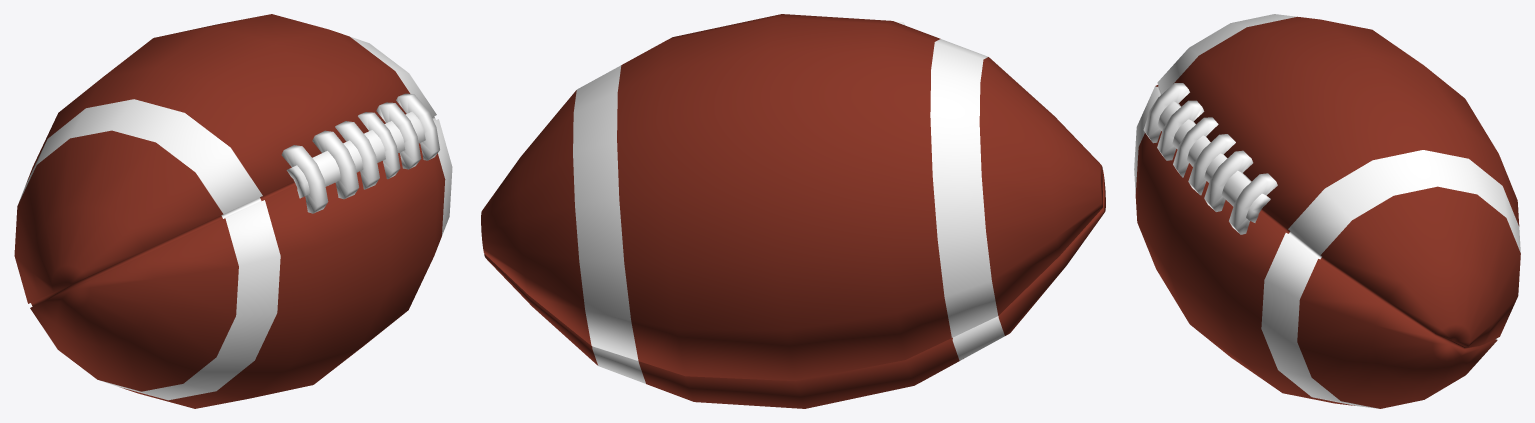
The model's file is Balon.glb.
3 renders of one model, left to right at view 1: azimuth 30°, elevation 25°; view 2: azimuth 150°, elevation 25°; view 3: azimuth 270°, elevation 25°, orthographic. The views are drawn at different scales.
Visible parts, largest first — view 1: Sphere.001; view 2: Sphere.001; view 3: Sphere.001.
Part boxes in pixels (left/top/right/bottom): Sphere.001: left=14, top=14, right=452, bottom=408; Sphere.001: left=481, top=14, right=1105, bottom=408; Sphere.001: left=1134, top=14, right=1520, bottom=408.
Bounding box in the file's own units: 2.09 × 1.41 × 1.57.
